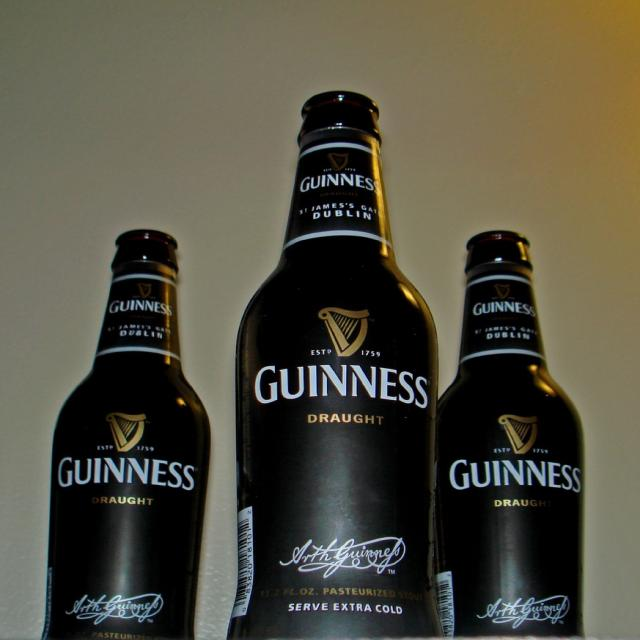guiness: (250, 307, 432, 410), (55, 411, 201, 492), (446, 411, 585, 494)
